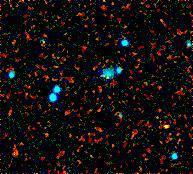star: (153, 109, 183, 139)
